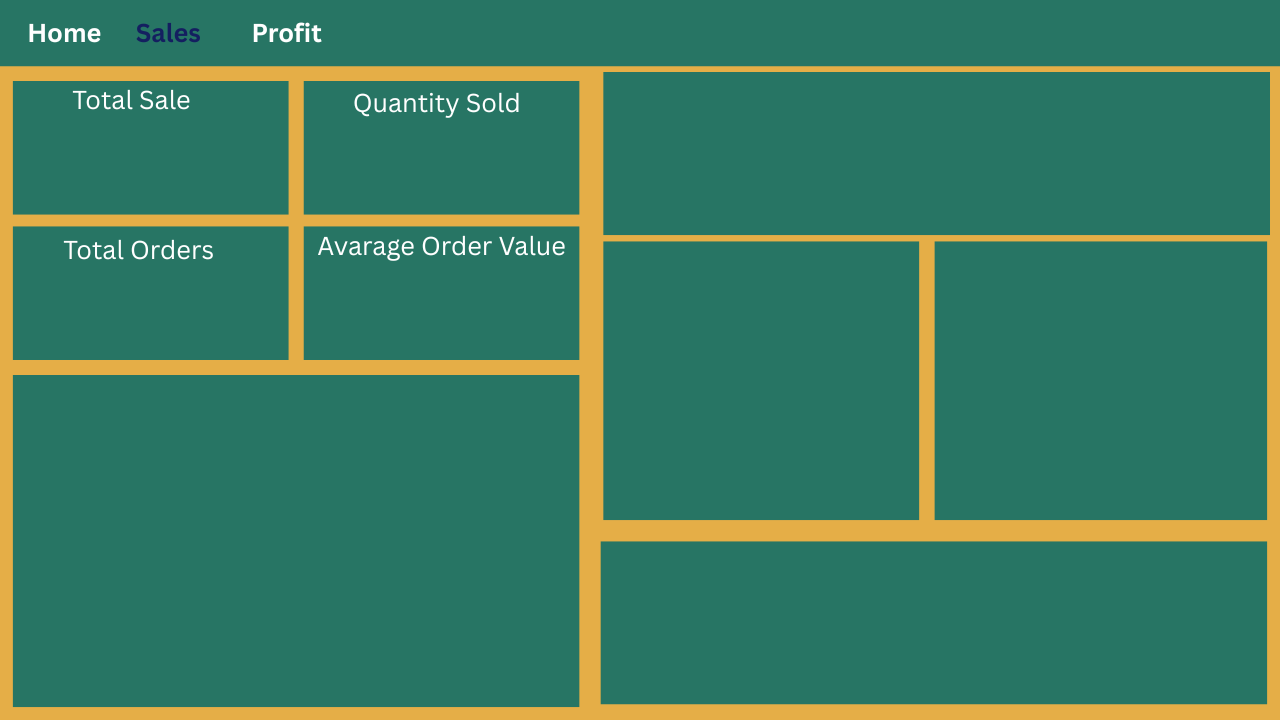

What the dashboard file says about the page in this screenshot:
{"tool":"powerbi","page":{"name":"Sales","canvas":[1280,720],"ordinal":1},"visuals":[{"type":"card","fields":{"Values":["Sum(Sample.Sales)"]},"box":[30.2,122.1,215.1,84.9],"z":0},{"type":"card","fields":{"Values":["Sum(Sample.Quantity)"]},"box":[329.1,122.1,215.1,84.9],"z":1000},{"type":"card","fields":{"Values":["Sample.Total orders"]},"box":[31.4,266.3,215.1,84.9],"z":2000},{"type":"card","fields":{"Values":["Sample.AVG Order Value"]},"box":[329.1,266.3,215.1,84.9],"z":3000},{"type":"lineChart","title":" Sales over Month","fields":{"Y":["Sum(Sample.Sales)"],"Category":["year table.Month"]},"box":[612.8,75.6,648.8,150],"z":4000},{"type":"esriVisual","fields":{"Location":["Sample.State"],"Size":["Sum(Sample.Sales)"]},"box":[20,382.5,543.8,313.8],"z":5000},{"type":"clusteredBarChart","fields":{"Category":["Sample.Sub-Category"],"Y":["Sum(Sample.Sales)"]},"box":[946.2,247.5,315,257.5],"z":5001},{"type":"columnChart","fields":{"Category":["Sample.Category"],"Y":["Sum(Sample.Sales)"]},"box":[612.5,247.5,297.5,257.5],"z":5002},{"type":"clusteredBarChart","fields":{"Category":["Sample.Segment"],"Y":["Sum(Sample.Sales)"]},"box":[612.5,548.8,648.8,147.5],"z":5003},{"type":"slicer","fields":{"Values":["Sample.Region"]},"box":[856.2,6.2,202.5,66.2],"z":5004},{"type":"slicer","fields":{"Values":["Sample.Category"]},"box":[1076.2,6.2,185,37.5],"z":5005},{"type":"slicer","fields":{"Values":["year table.Year"]},"box":[353.8,6.2,487.5,50],"z":5006},{"type":"actionButton","box":[20,11.2,100,40],"z":5007},{"type":"actionButton","box":[242.5,6.2,100,50],"z":5008}]}

Visuals, with their boxes on the page's 1280x720 design canvas (x1, y1, x2, y2). These are canvas units, not pixel positions in the 1280x720 screenshot, which may show the page scaled, cropped or inside an application window:
card - Sum(Sample.Sales): 30:122:245:207
card - Sum(Sample.Quantity): 329:122:544:207
card - Sample.Total orders: 31:266:246:351
card - Sample.AVG Order Value: 329:266:544:351
" Sales over Month" lineChart: 613:76:1262:226
esriVisual - Sample.State x Sum(Sample.Sales): 20:382:564:696
clusteredBarChart - Sample.Sub-Category x Sum(Sample.Sales): 946:248:1261:505
columnChart - Sample.Category x Sum(Sample.Sales): 612:248:910:505
clusteredBarChart - Sample.Segment x Sum(Sample.Sales): 612:549:1261:696
slicer - Sample.Region: 856:6:1059:72
slicer - Sample.Category: 1076:6:1261:44
slicer - year table.Year: 354:6:841:56
actionButton: 20:11:120:51
actionButton: 242:6:342:56
